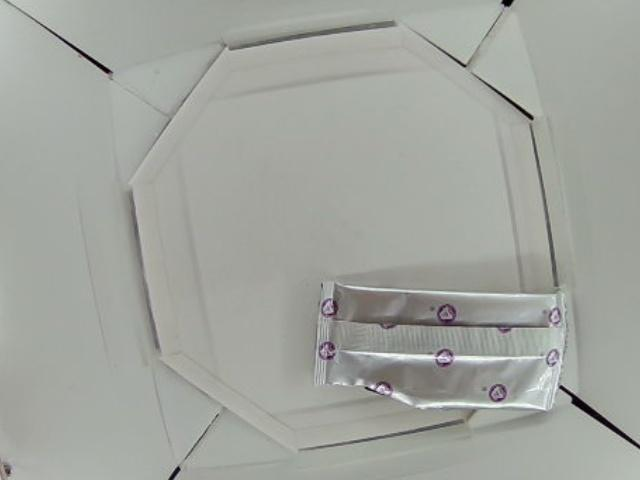Medicine: (310, 279, 568, 413)
